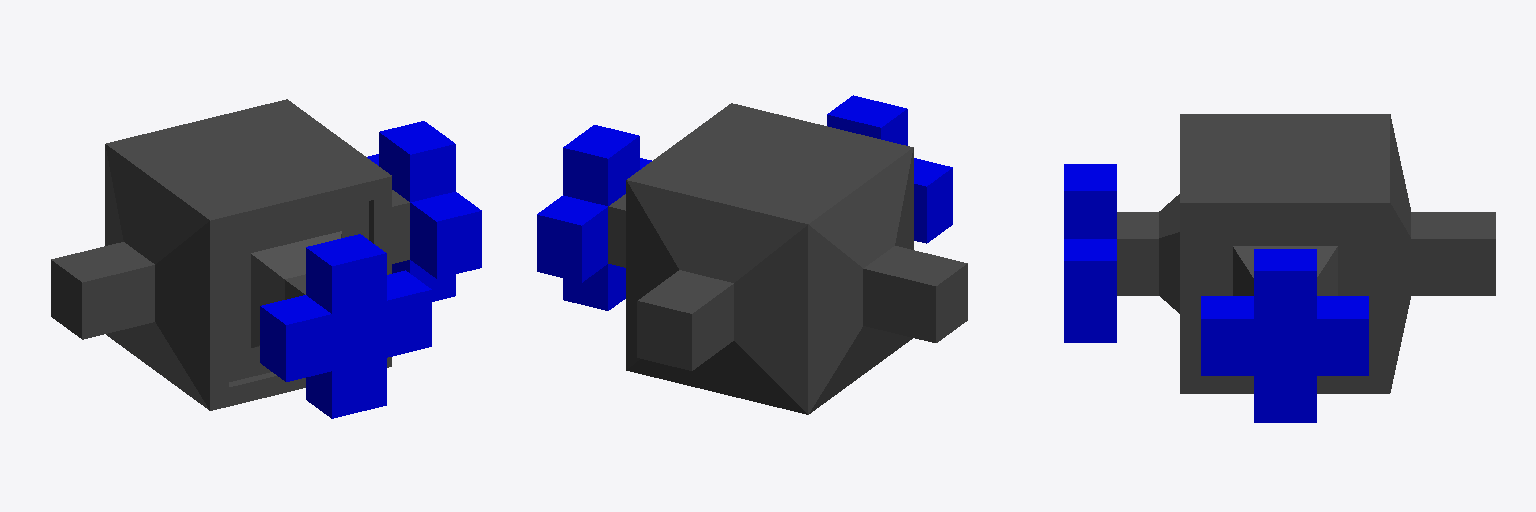
The model's file is shield.obj.
3 views of the same model, side by side, from view 1: azimuth 30°, elevation 25°; view 2: azimuth 150°, elevation 25°; view 3: azimuth 270°, elevation 25° (orthographic).
Parts seen in each view (by area): view 1: shield.obj; view 2: shield.obj; view 3: shield.obj.
Boxes of the visible parts, <box> form: shield.obj: <box>51,99,481,418</box>; shield.obj: <box>537,95,967,414</box>; shield.obj: <box>1064,114,1495,422</box>.
Bounding box in the file's own units: 2.05 × 1 × 2.05.